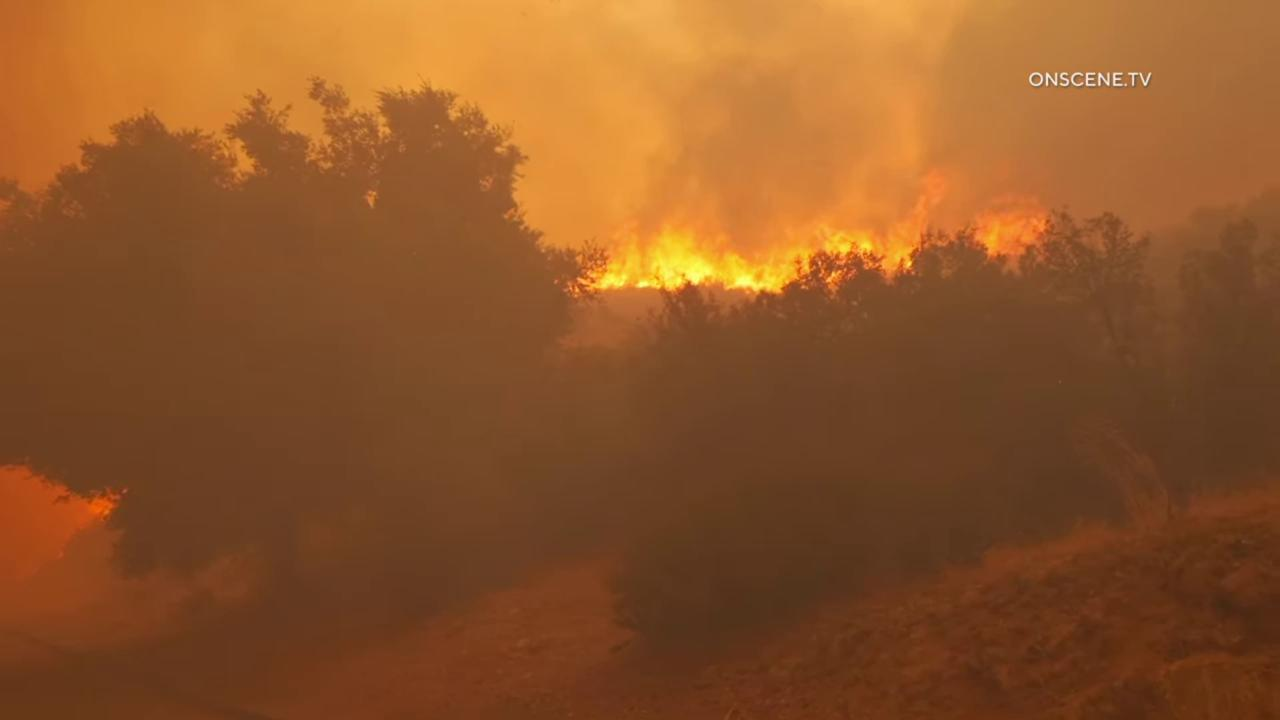fire: (552, 158, 1056, 298)
smoke: (0, 0, 1280, 720)
